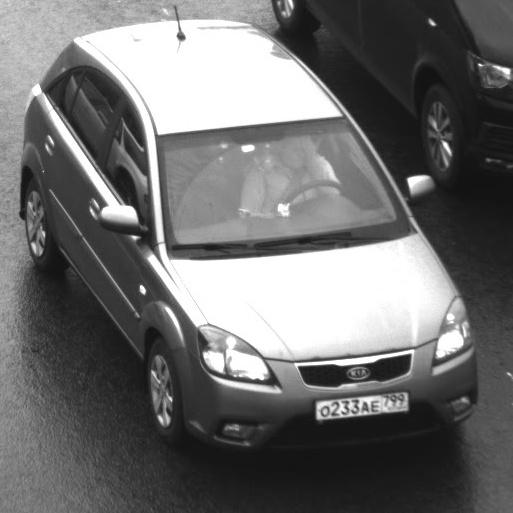plate: (305, 379, 417, 426)
